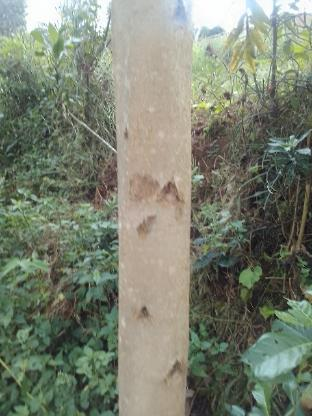tree: (103, 0, 198, 416)
